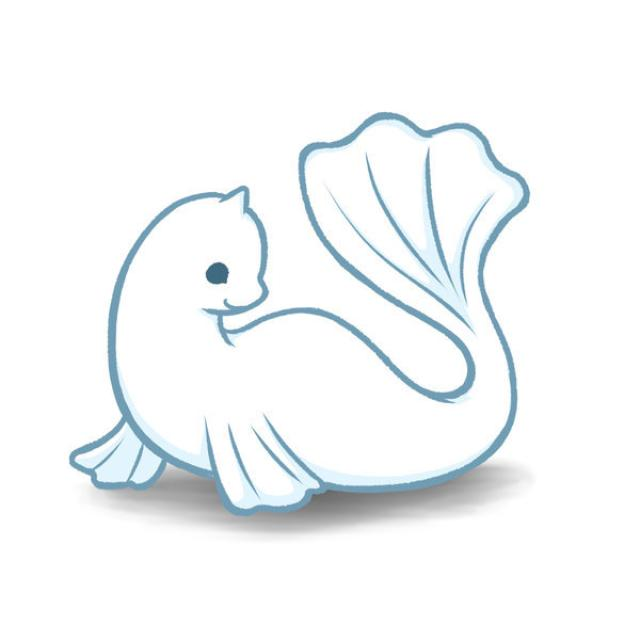Dewgong: (73, 105, 523, 518)
